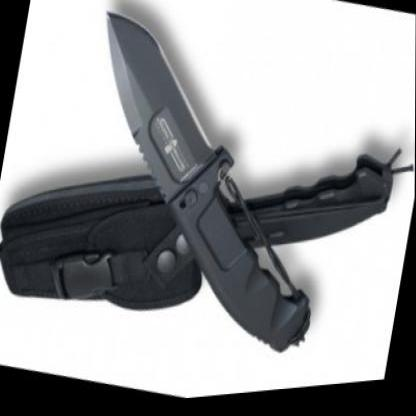knife: (70, 0, 247, 230)
